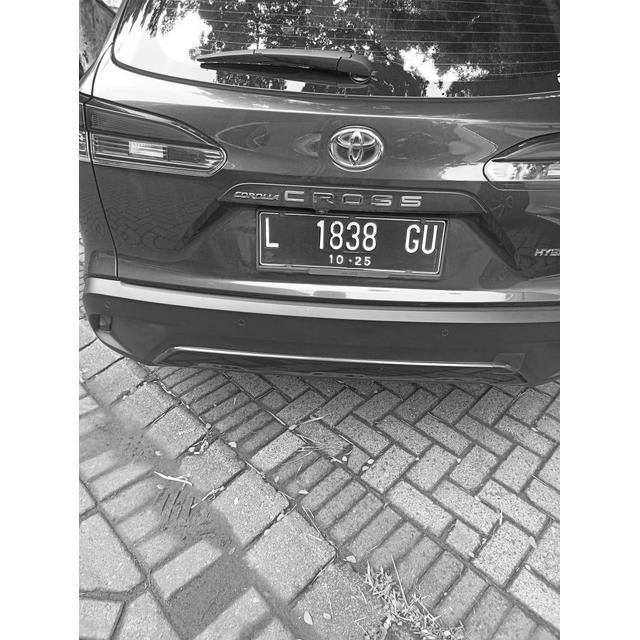license: (262, 215, 440, 270)
